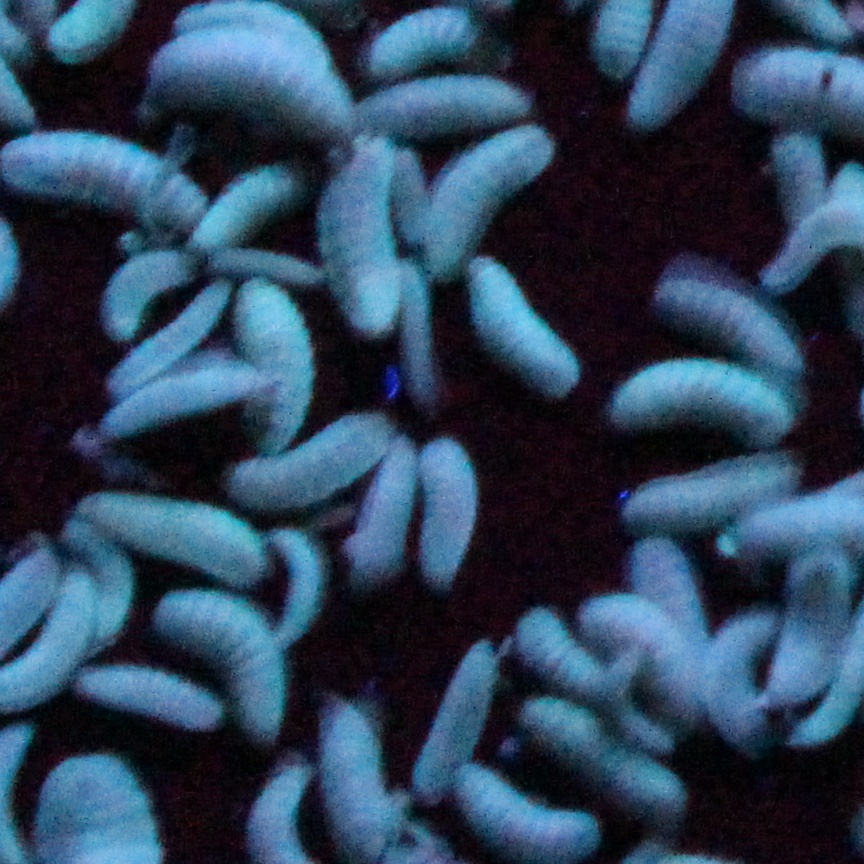larve: (161, 18, 354, 144), (521, 700, 682, 820), (4, 140, 200, 237), (78, 491, 268, 588), (423, 137, 552, 268), (182, 588, 288, 738), (467, 265, 581, 400), (322, 144, 400, 337), (406, 636, 496, 803), (658, 278, 798, 377), (616, 370, 795, 447), (638, 451, 795, 531), (589, 598, 694, 715), (309, 706, 392, 852), (108, 367, 274, 439), (238, 282, 318, 431), (356, 12, 515, 81), (226, 434, 384, 502), (344, 444, 422, 577), (354, 78, 543, 132), (771, 548, 831, 702), (704, 608, 770, 746), (204, 165, 310, 247), (513, 608, 603, 701), (85, 251, 195, 323), (419, 444, 474, 582), (88, 668, 221, 725), (43, 567, 92, 703), (270, 531, 328, 639)
